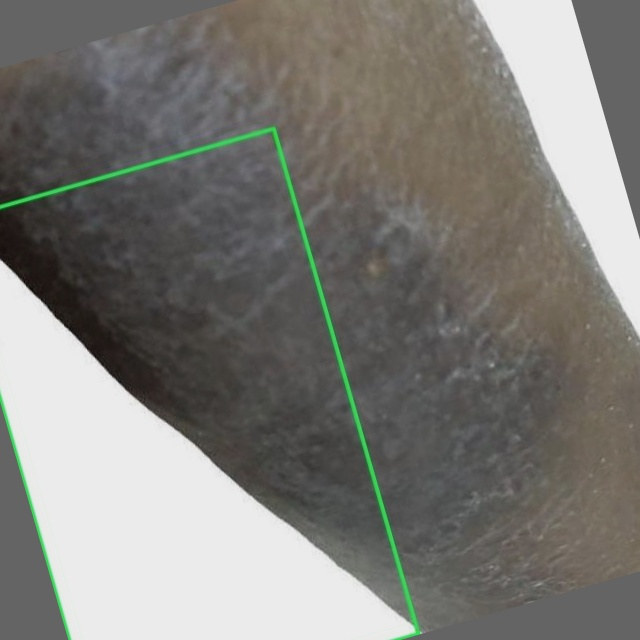Eczema: (0, 128, 418, 639)
